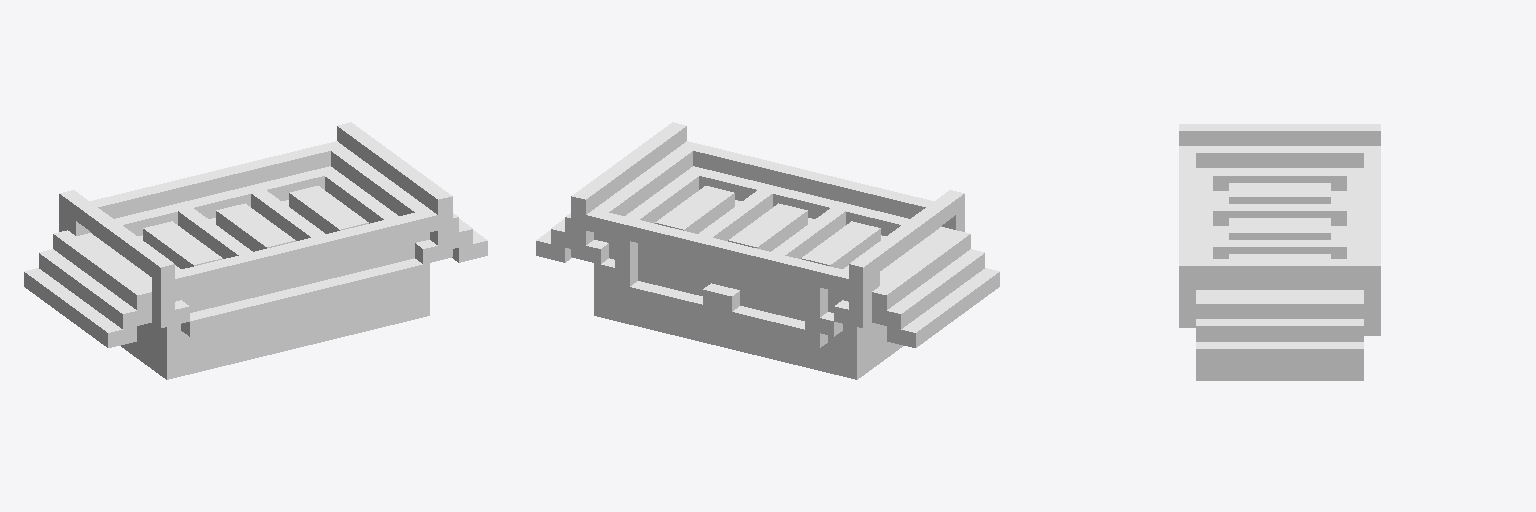
The model's file is Busytankio_Light_Ammo_Chest.obj.
The picture shows the model from 3 angles: view 1: azimuth 30°, elevation 25°; view 2: azimuth 150°, elevation 25°; view 3: azimuth 270°, elevation 25°; orthographic projection.
Parts seen in each view (by area): view 1: object 1; view 2: object 1; view 3: object 1.
Boxes of the visible parts, x1,y1,x2,y2 form: object 1: [24, 122, 487, 379]; object 1: [536, 122, 999, 379]; object 1: [1179, 124, 1380, 380].
Bounding box in the file's own units: 2.6 × 0.8 × 1.2.